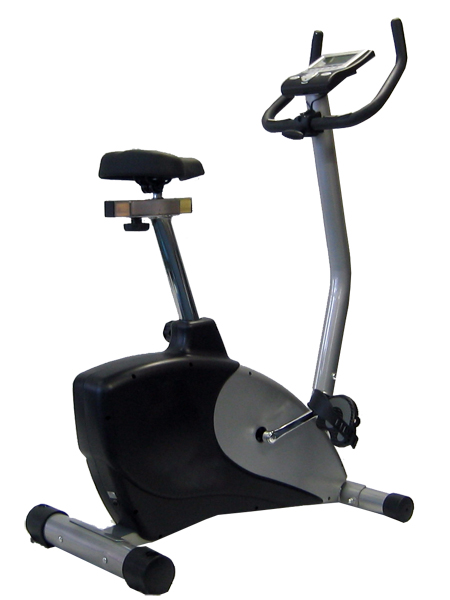gym_bike: (28, 18, 426, 584)
